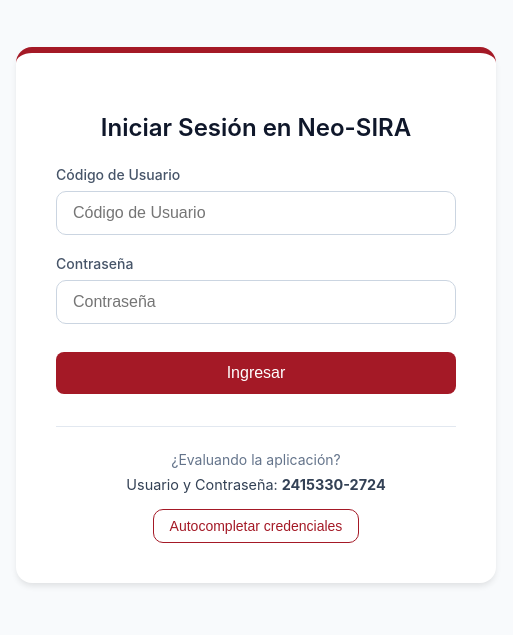
Componente Login › Muestra un error si los campos están vacíos
Click the button "Ingresar": (256, 373) top-left (56, 352), bottom-right (456, 394)
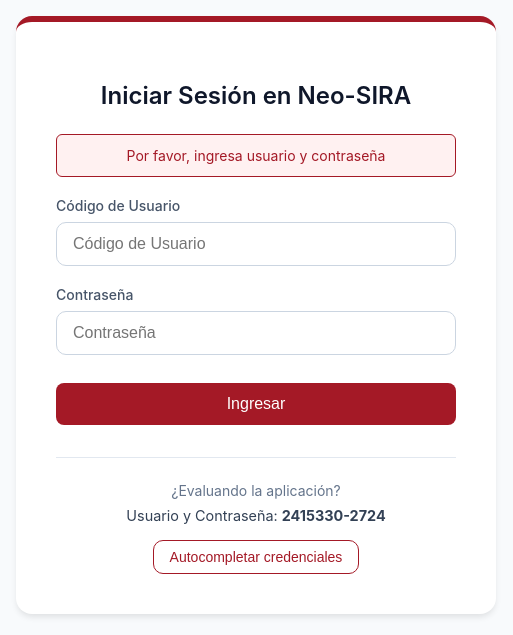
expect the message reads "Por favor, ingresa usuario y contraseña": met, box top-left (126, 148), bottom-right (385, 164)
